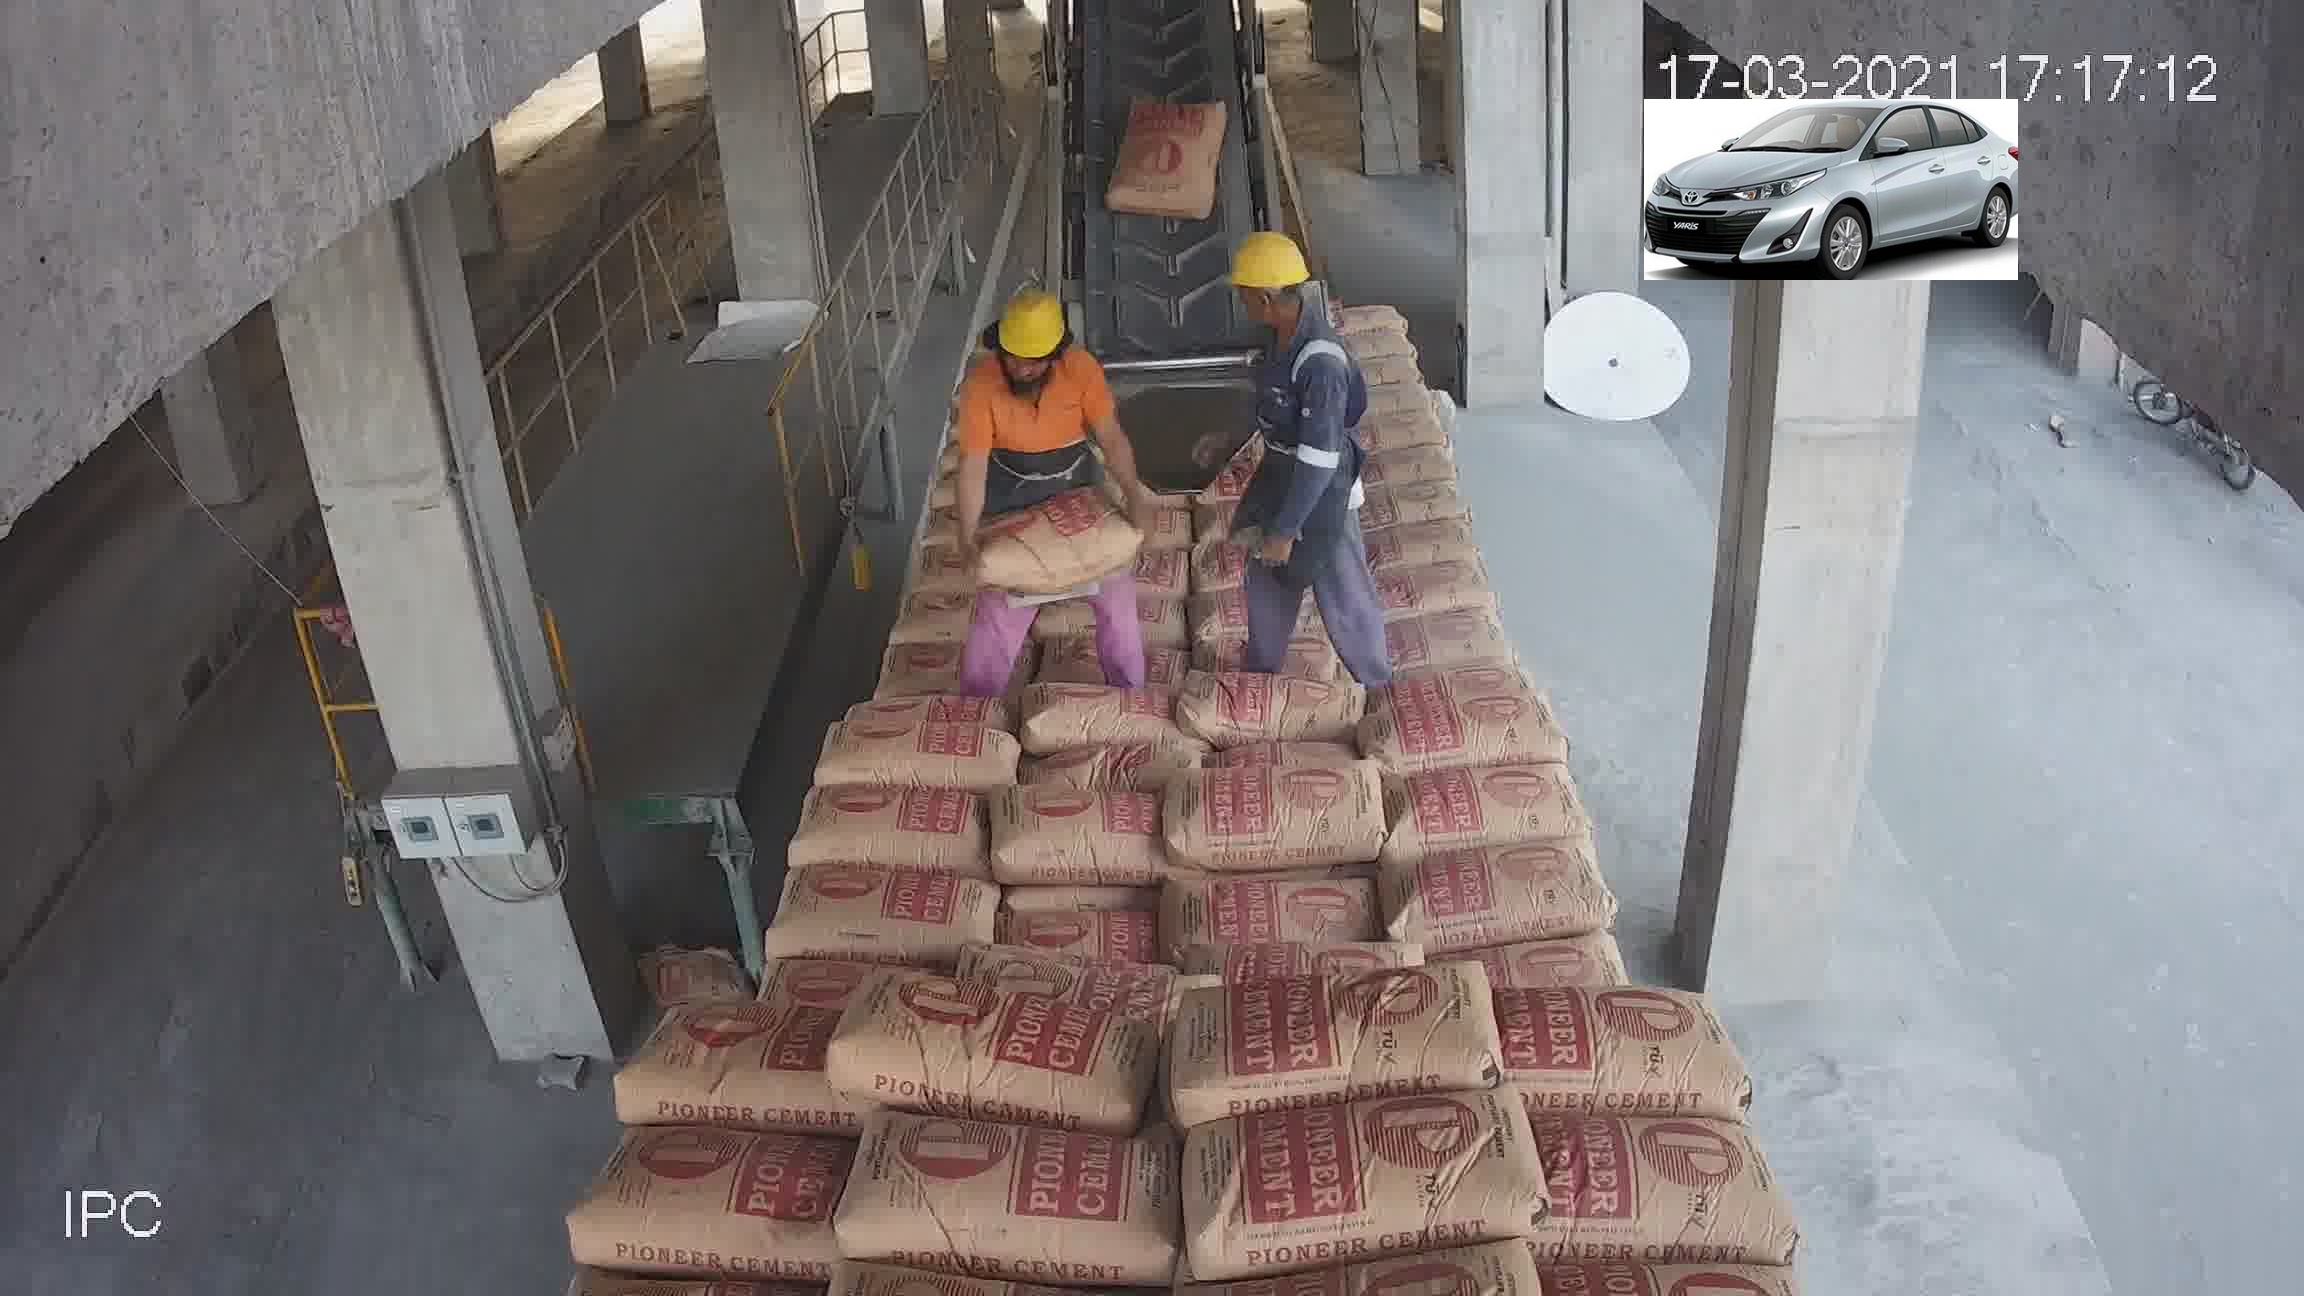bag: (1108, 100, 1233, 222)
bag_h: (1173, 1092, 1537, 1268), (1158, 957, 1487, 1120), (839, 1117, 1161, 1282), (828, 980, 1165, 1111), (565, 1128, 850, 1282), (1538, 1120, 1791, 1272), (1505, 984, 1756, 1120), (608, 1013, 836, 1135), (1163, 761, 1388, 872), (771, 867, 1000, 965), (1378, 851, 1603, 945), (1163, 862, 1370, 957), (1388, 763, 1579, 859), (791, 779, 984, 873), (976, 486, 1149, 589), (1378, 680, 1559, 779), (987, 790, 1157, 889), (810, 715, 1024, 790), (1016, 677, 1173, 758), (1176, 668, 1364, 734), (1180, 595, 1347, 668), (959, 942, 1177, 995), (1378, 595, 1521, 677), (1383, 654, 1533, 712), (1362, 565, 1503, 622), (1362, 529, 1492, 578), (1364, 472, 1470, 529), (1353, 405, 1461, 460), (1359, 440, 1465, 487), (880, 641, 964, 690), (1353, 369, 1434, 413), (1348, 347, 1424, 386), (1347, 329, 1416, 366), (1336, 297, 1415, 328)
belt: (1049, 5, 1264, 421)
